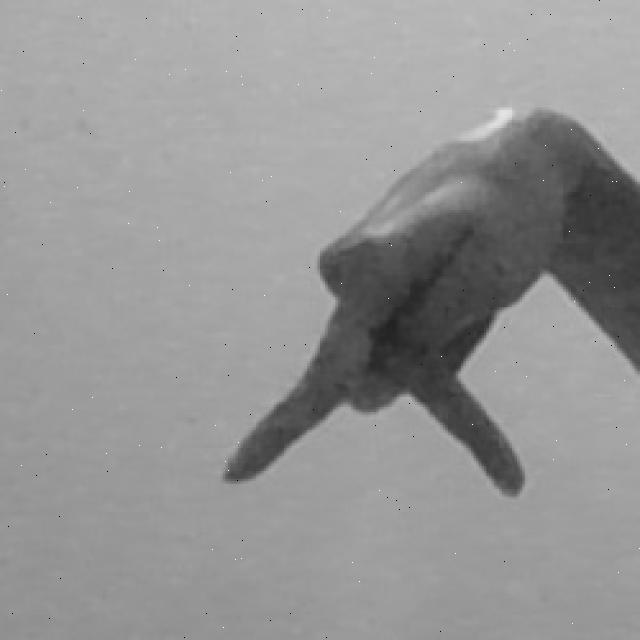P: (214, 97, 640, 511)
